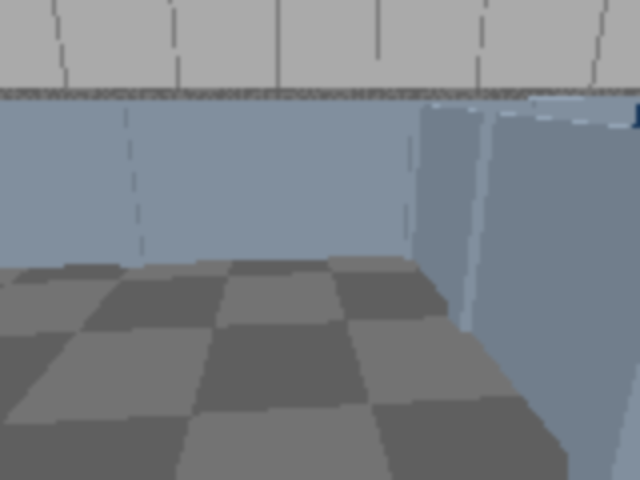person: (630, 0, 638, 226)
